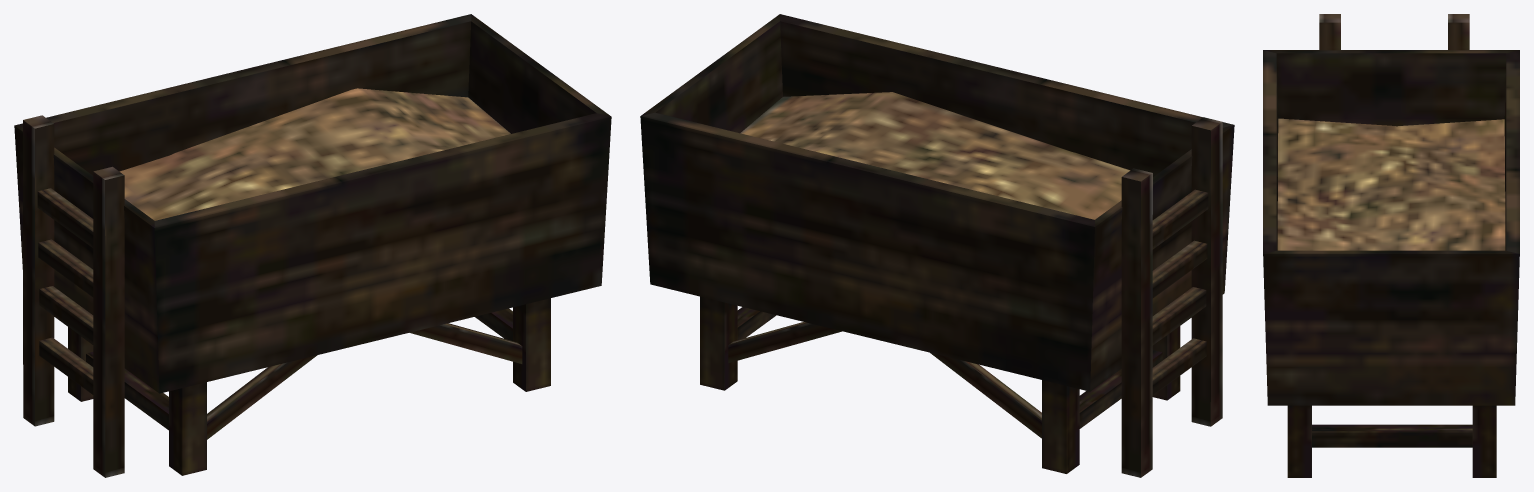
Rendered from general_obj_woodbox_01.fbx.
3 views of the same model, side by side, from view 1: azimuth 30°, elevation 25°; view 2: azimuth 150°, elevation 25°; view 3: azimuth 270°, elevation 25° (orthographic). The views are drawn at different scales.
Visible parts, largest first — view 1: Object02; view 2: Object02; view 3: Object02.
Boxes of the visible parts, box(x1,y1,x2,y2) form: Object02: box(14, 14, 611, 477); Object02: box(640, 14, 1234, 477); Object02: box(1263, 14, 1519, 477).
Size of the model in its own units: 2.36 by 1.41 by 1.21.
